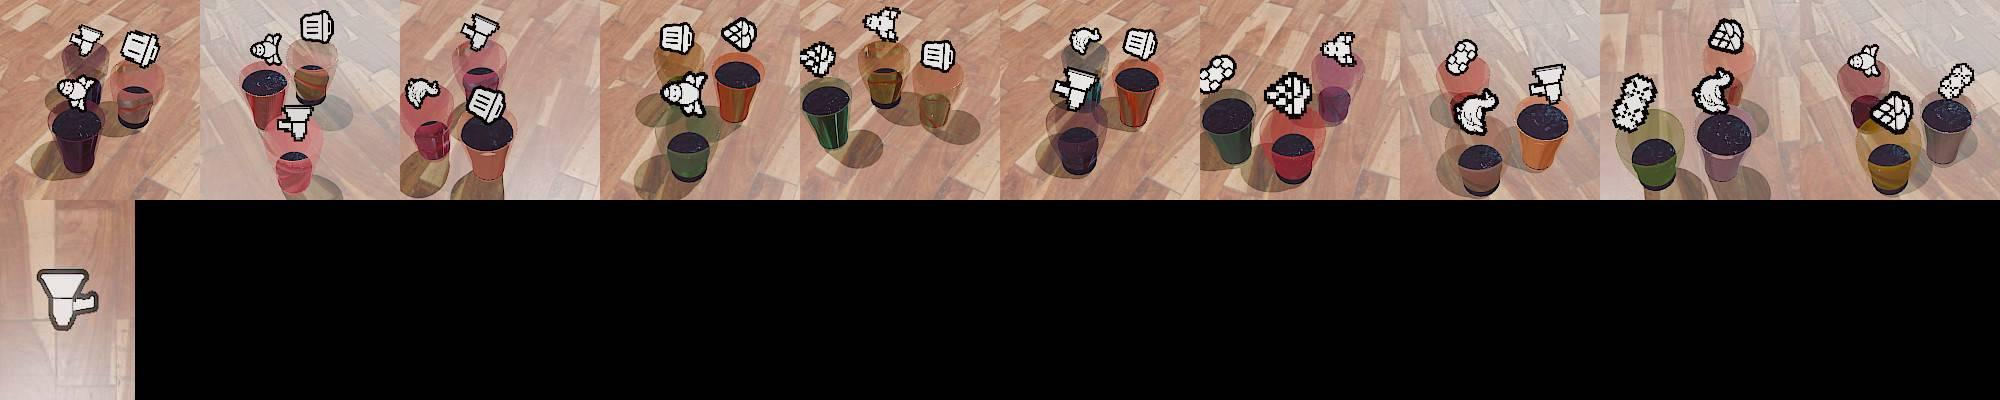icon: (33, 267, 101, 330), (1611, 72, 1658, 133), (1263, 70, 1313, 118), (1050, 65, 1100, 112), (660, 69, 707, 116), (1454, 87, 1499, 136), (1693, 66, 1735, 118), (1870, 91, 1914, 134), (119, 29, 160, 68), (461, 12, 500, 53), (56, 75, 100, 111), (467, 85, 507, 124), (1198, 54, 1236, 94), (1531, 63, 1567, 105), (1938, 63, 1976, 102), (277, 102, 316, 140), (862, 6, 902, 43), (799, 41, 837, 79), (1708, 17, 1745, 54), (720, 16, 758, 52), (1320, 31, 1356, 67), (1445, 38, 1479, 76), (1122, 27, 1157, 62), (660, 20, 695, 55), (920, 39, 956, 73), (300, 9, 334, 45), (405, 76, 441, 110), (1846, 44, 1880, 78), (249, 32, 283, 66), (69, 23, 104, 56), (1068, 25, 1101, 56)
